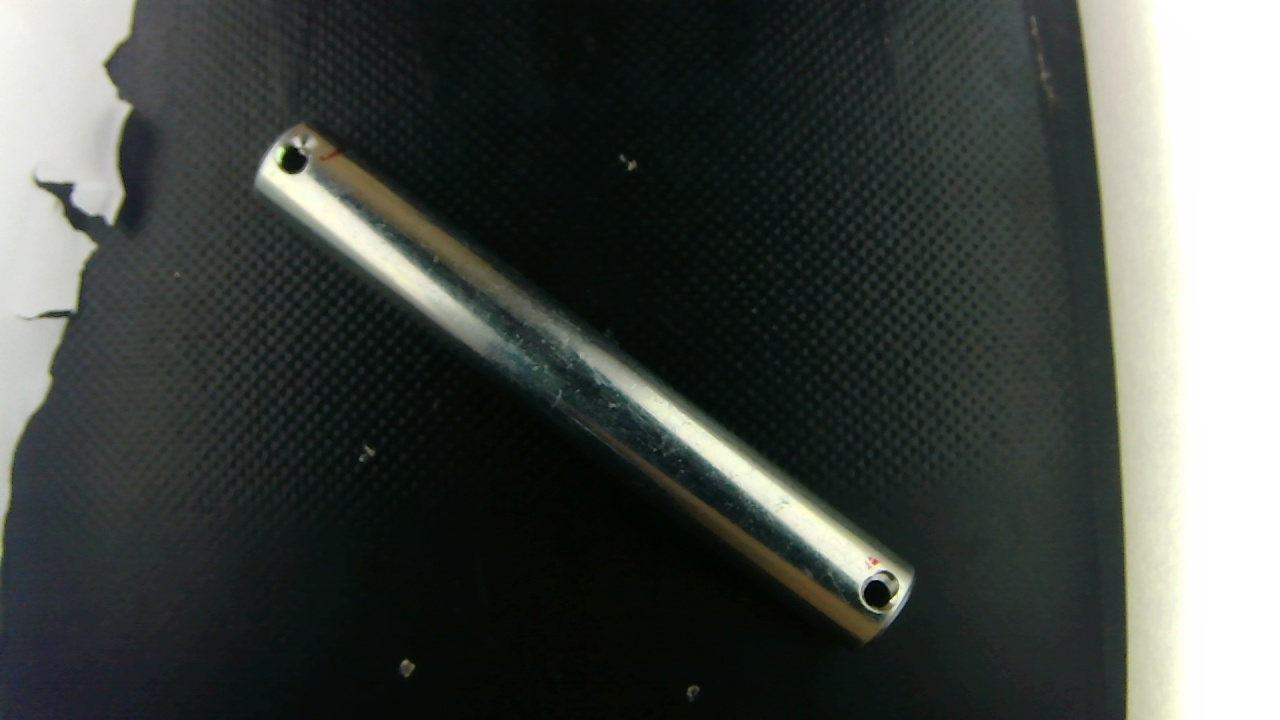drill touch_pin: (871, 567, 905, 605)
